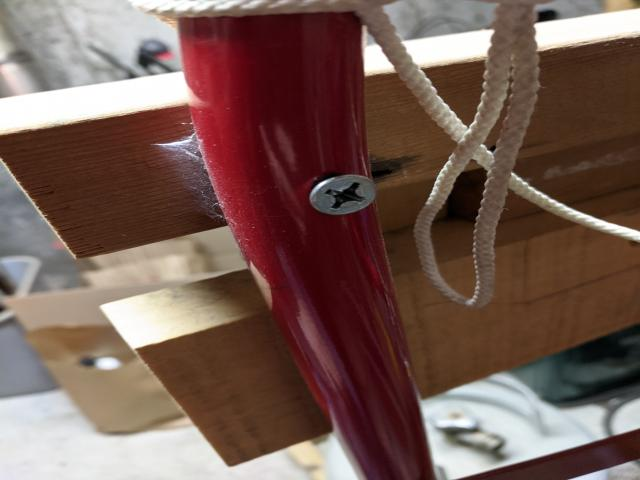CRS: (310, 174, 376, 216)
